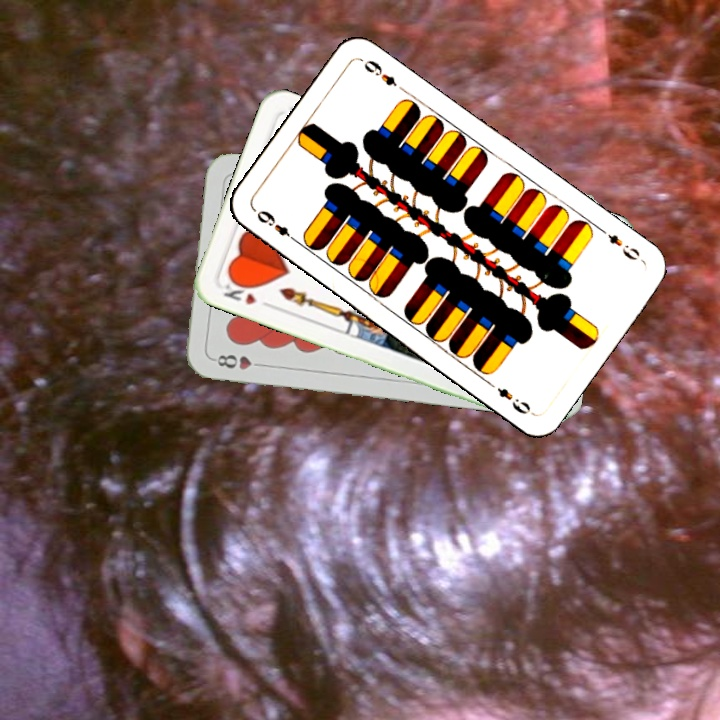E9: (252, 206, 301, 246), (603, 229, 643, 263)
H8: (209, 350, 268, 372)
HK: (219, 274, 274, 310)
